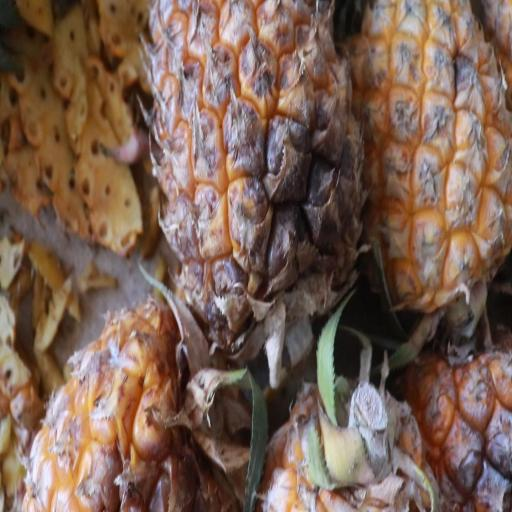Pineapple - v8 v1: (138, 0, 368, 357), (340, 0, 512, 328), (24, 282, 254, 512)
